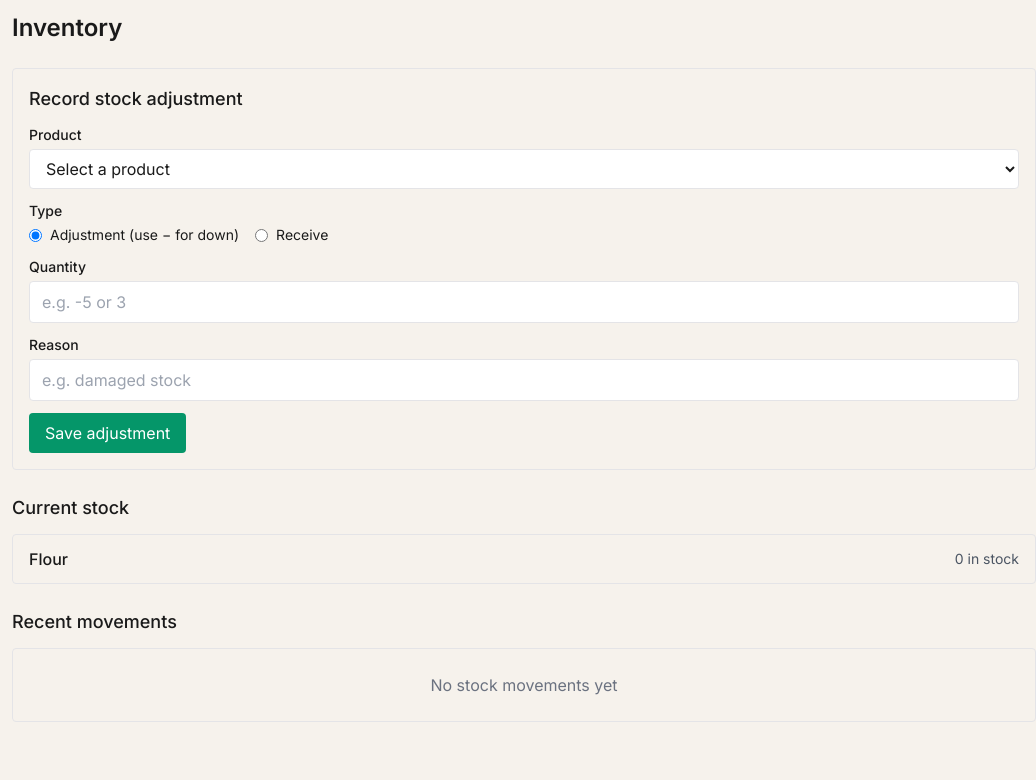
Scenario: InventoryPage › requires a positive quantity for RECEIVE
Expected: the text "Flour" is shown, [29,547,68,571]
Select "Flour" in the dropdown labelled "Product": (524, 169) [29,149,1019,189]
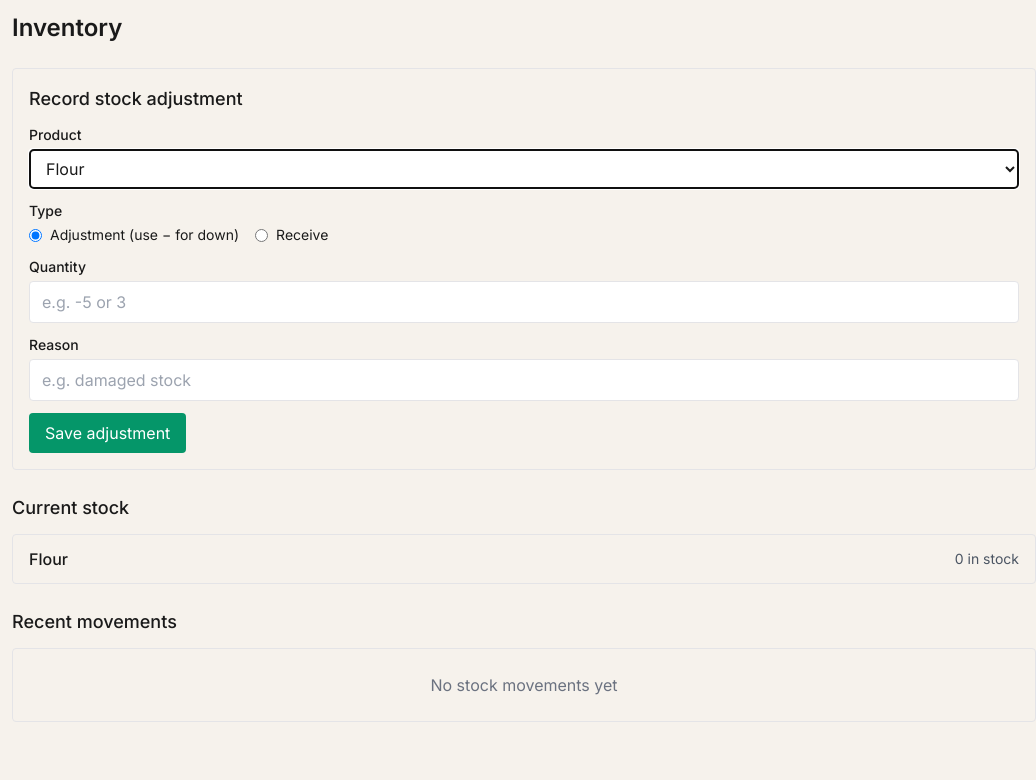
Click the radio button labelled "Receive": click(262, 235) [255,228,268,242]
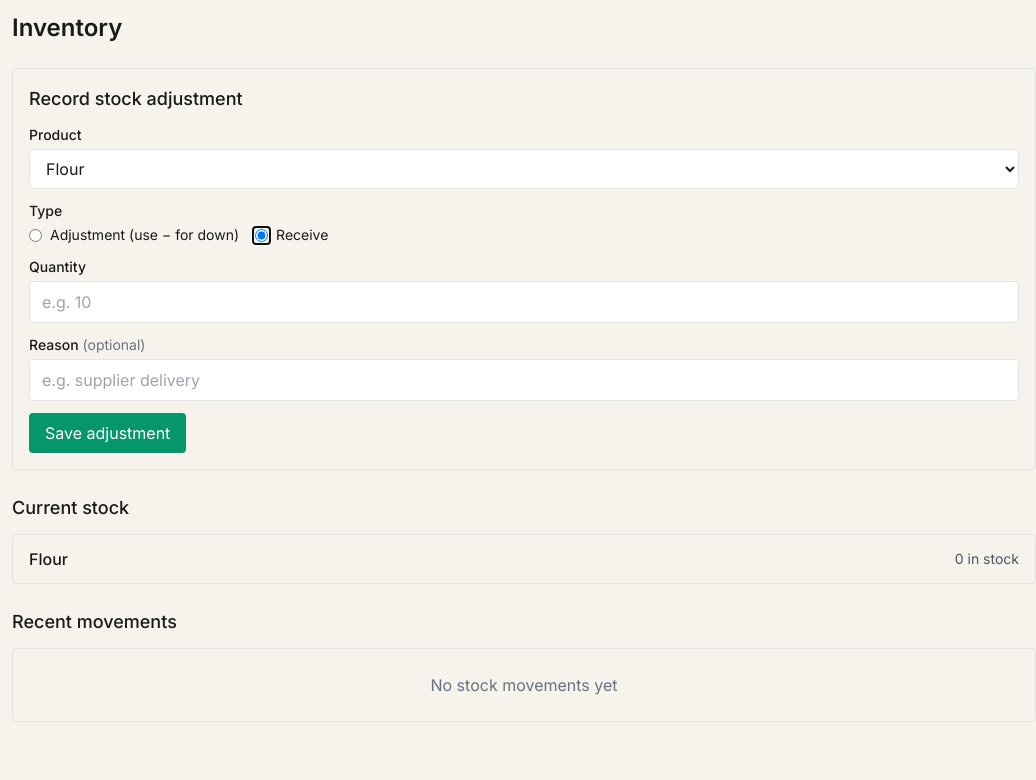
In the field labelled "Quantity": (524, 302) [29,281,1019,323], type "-5"
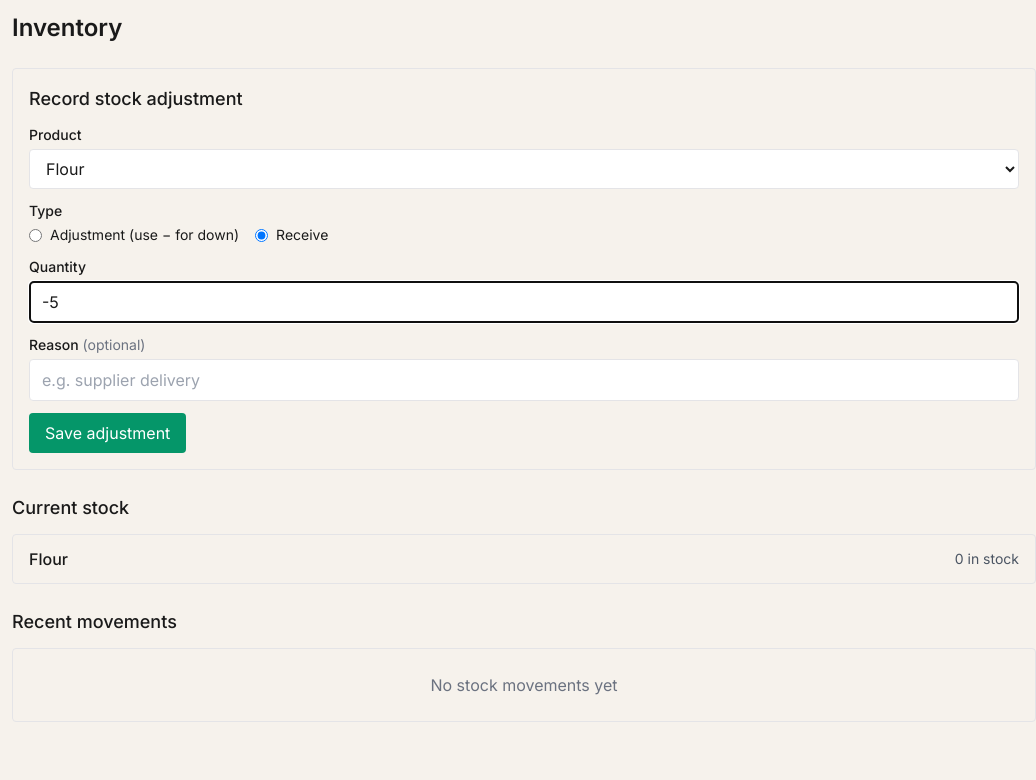
Click the button "Save adjustment": click(108, 433) [29,413,186,453]
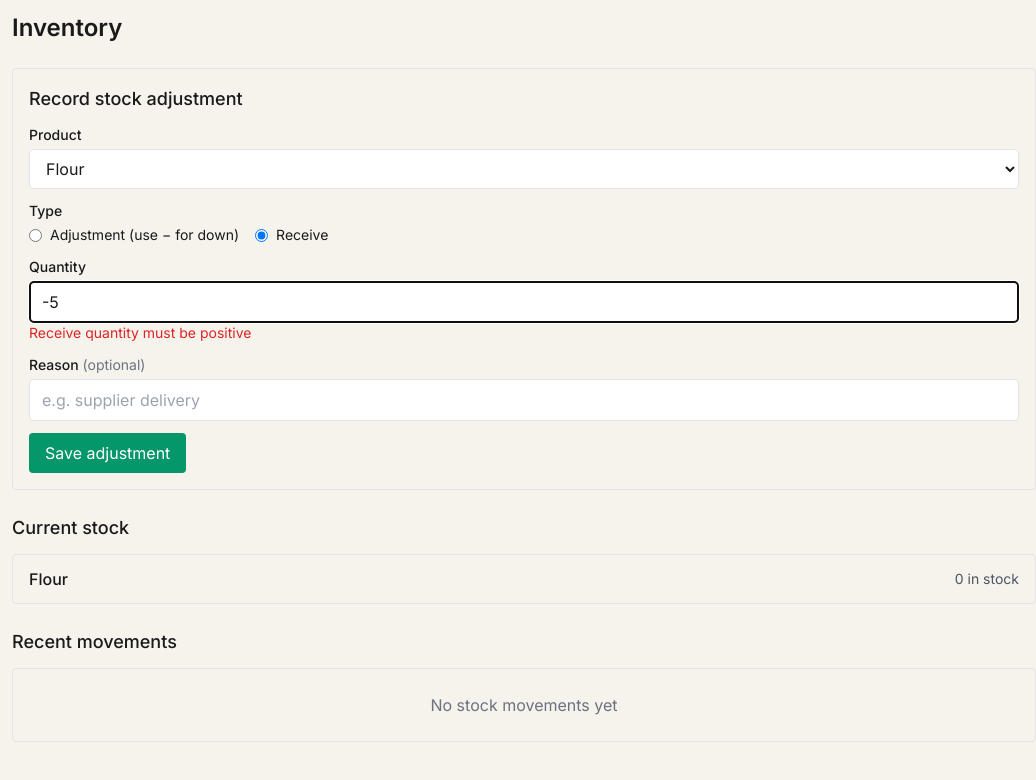
Expected: the text "Receive quantity must be positive" is shown, [29,324,251,341]
